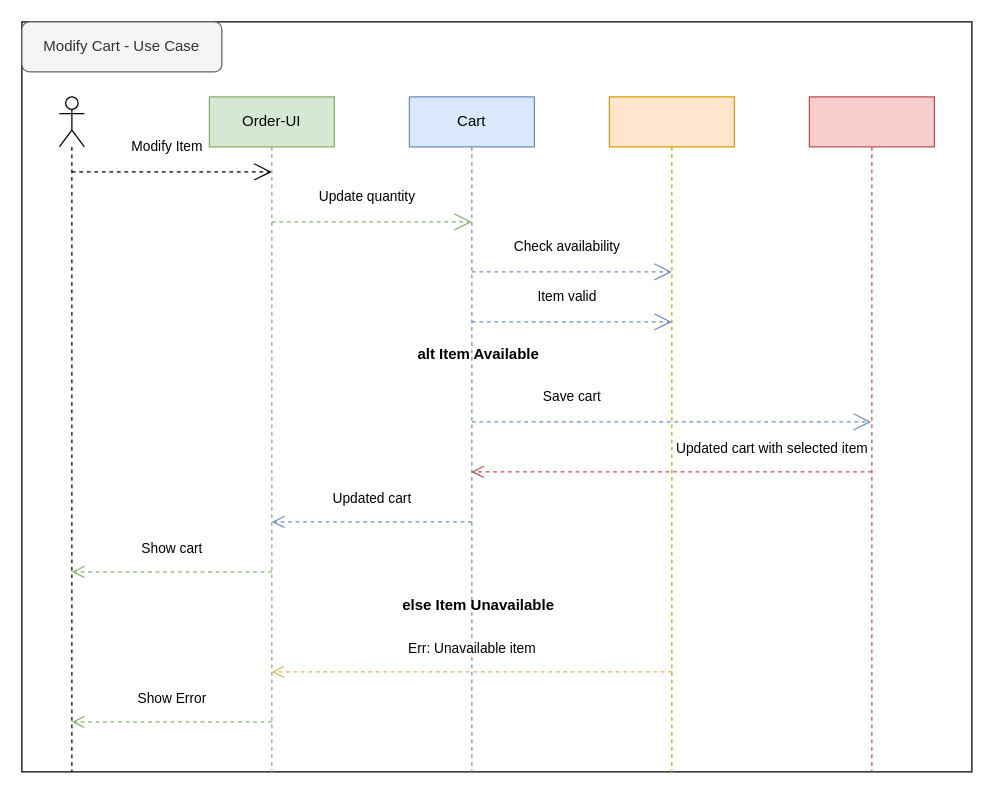
This 994x794 diagram has some shape labels left out. Each missing label, with the box of its shape:
DB: (808, 96, 934, 772)
Menu: (608, 96, 734, 772)
